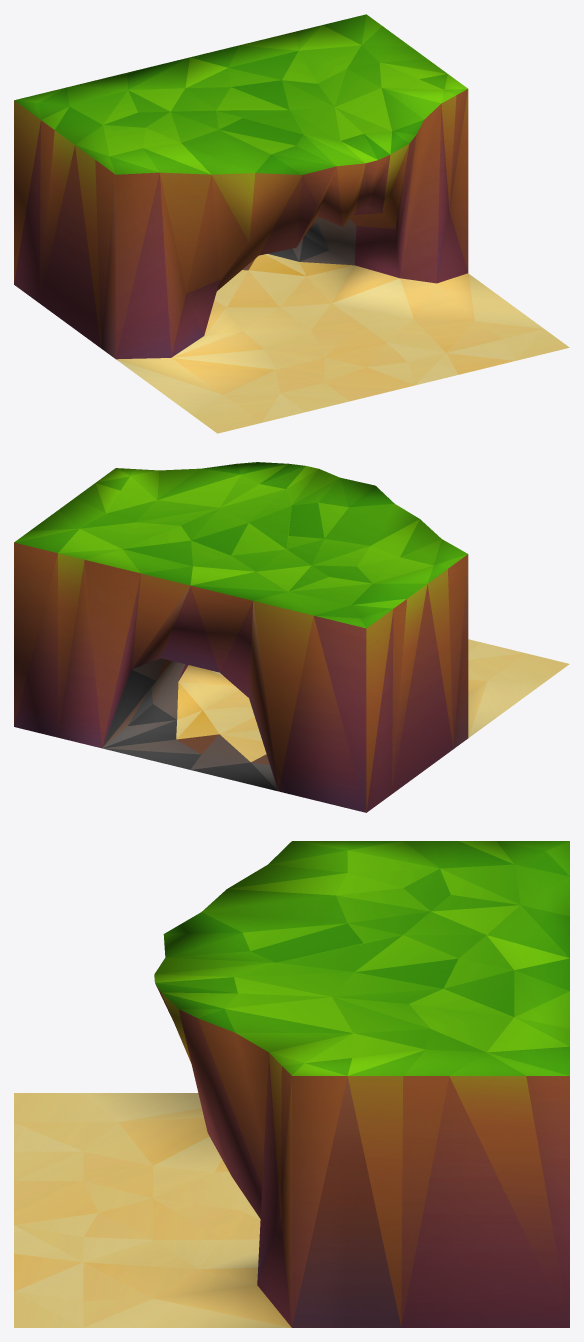
The model's file is GL-Terrain-part-15.fbx.
3 views of the same model, one above another, from view 1: azimuth 30°, elevation 25°; view 2: azimuth 150°, elevation 25°; view 3: azimuth 270°, elevation 25° (orthographic). The views are drawn at different scales.
Visible parts, largest first — view 1: GL-Terrain-part-15; view 2: GL-Terrain-part-15; view 3: GL-Terrain-part-15.
Boxes of the visible parts, x1,y1,x2,y2 form: GL-Terrain-part-15: (14,14,569,433); GL-Terrain-part-15: (14,462,569,812); GL-Terrain-part-15: (14,841,569,1327).
Bounding box in the file's own units: 6 × 3 × 6.
